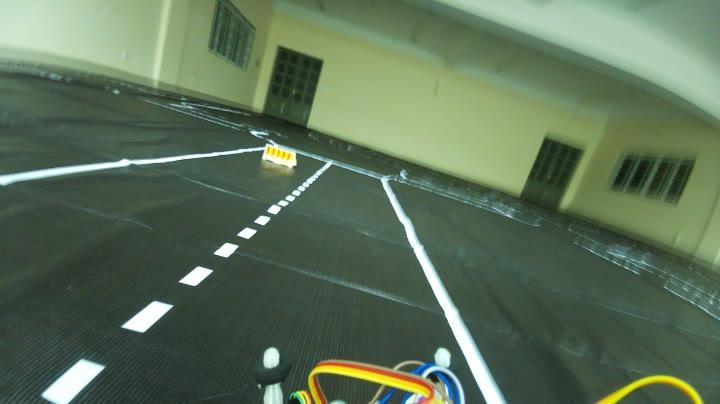roadblock: (260, 135, 302, 169)
